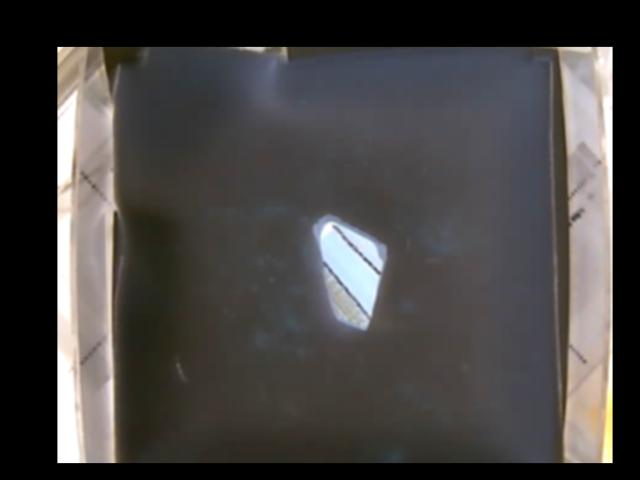China: (315, 215, 385, 329)
